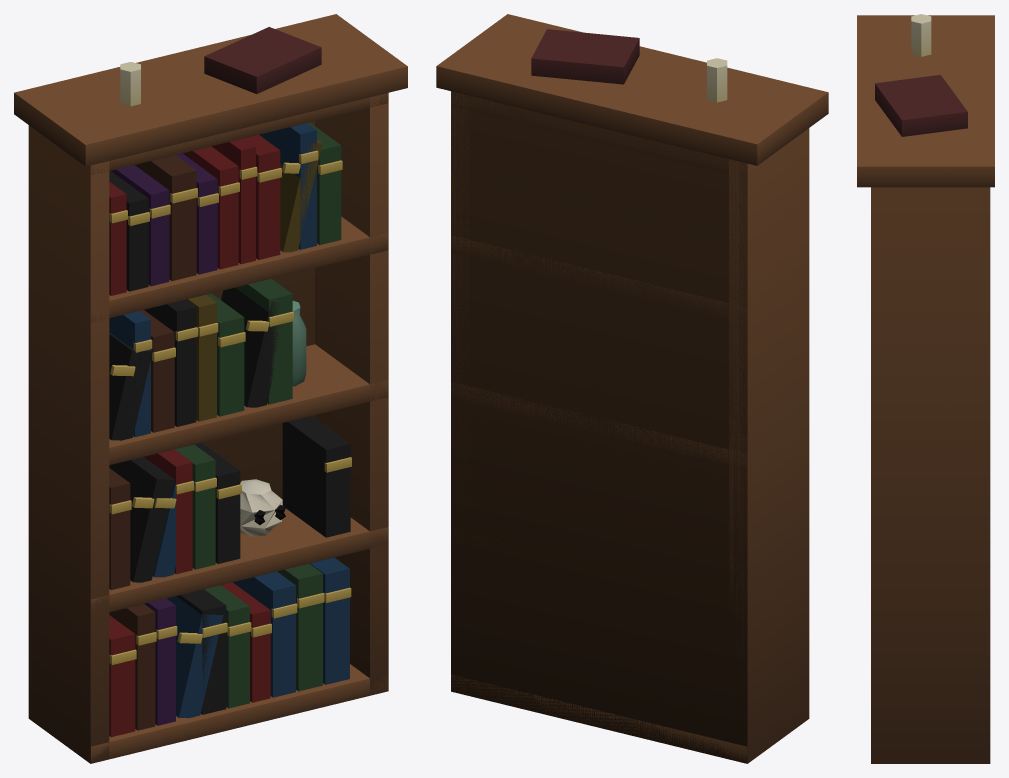
The model's file is bookcase.glb.
The picture shows the model from 3 angles, left to right: view 1: azimuth 30°, elevation 25°; view 2: azimuth 150°, elevation 25°; view 3: azimuth 270°, elevation 25°; orthographic projection. The views are drawn at different scales.
Visible parts, largest first — view 1: bookcase; view 2: bookcase; view 3: bookcase.
Part boxes in pixels (x1,y1,x2,y2): bookcase: (14,14,407,763); bookcase: (436,14,828,763); bookcase: (857,14,994,763).
Size of the model in its own units: 0.78 by 1.53 by 0.3.
